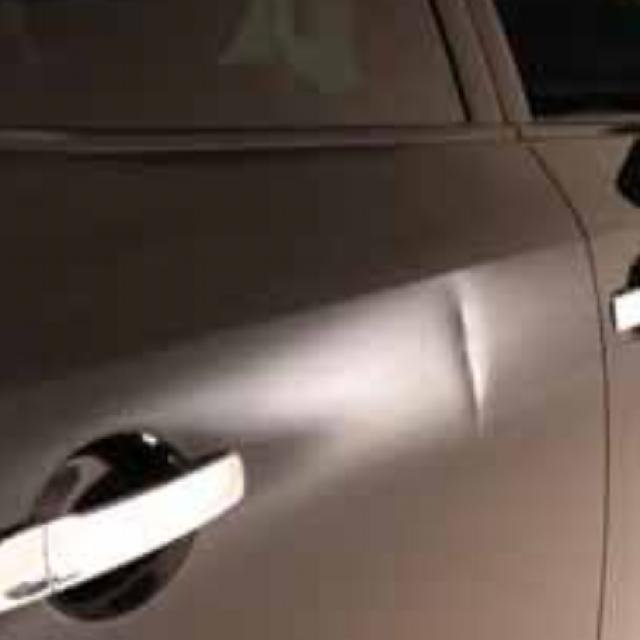dents: (432, 260, 520, 446)
